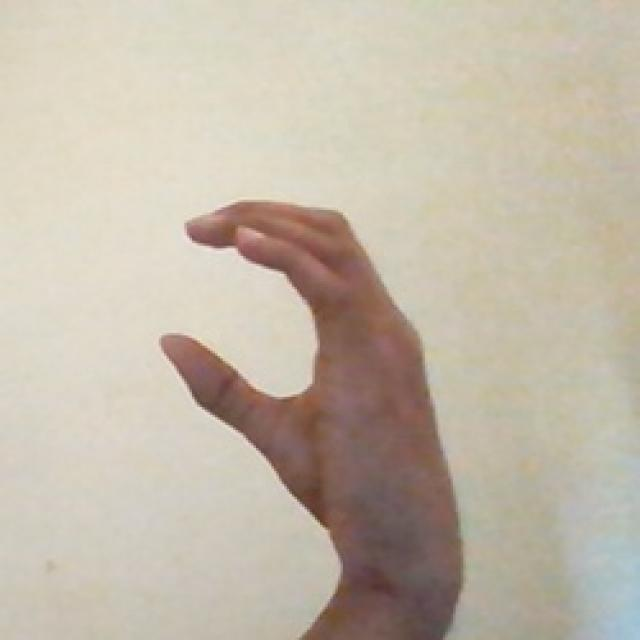Alphabet-C: (148, 184, 468, 597)
